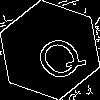Q: (25, 25, 90, 87)
